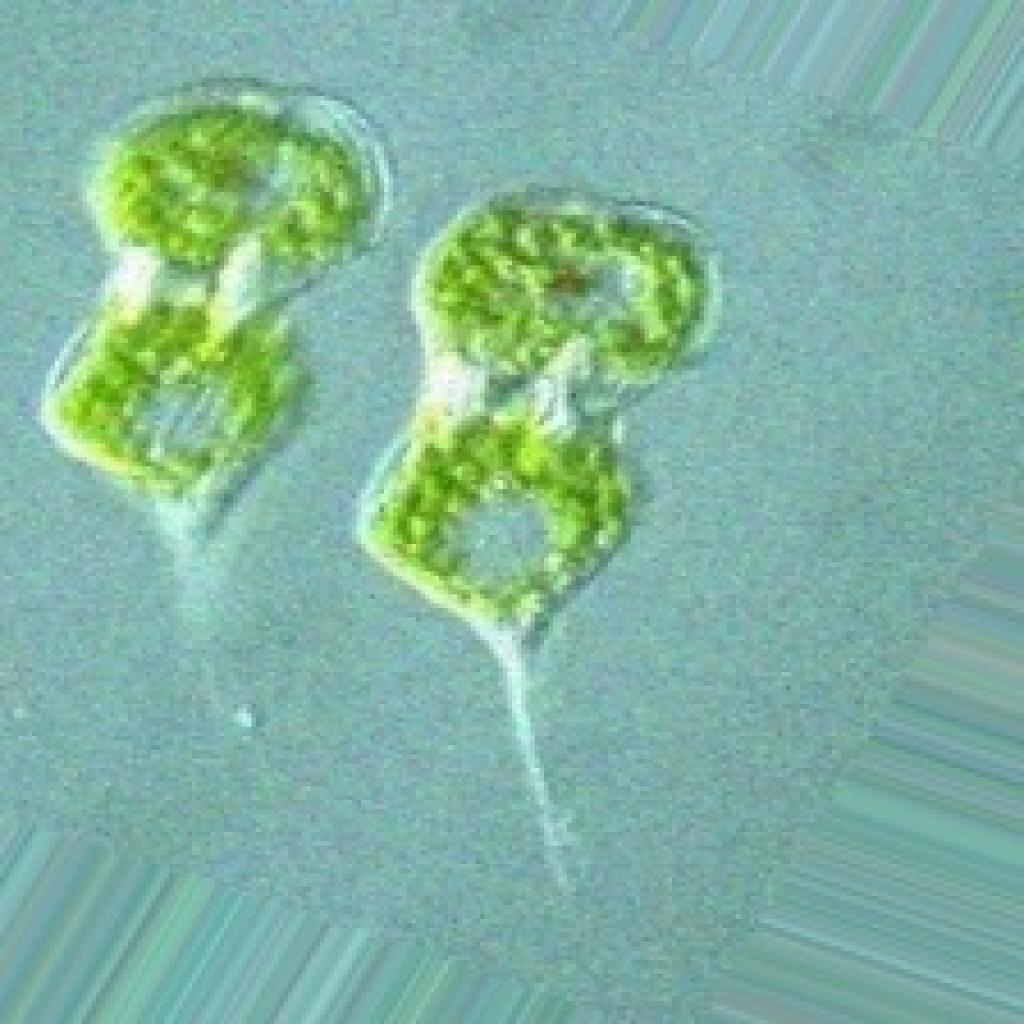Microalgae: (352, 183, 722, 896), (28, 54, 377, 649)
